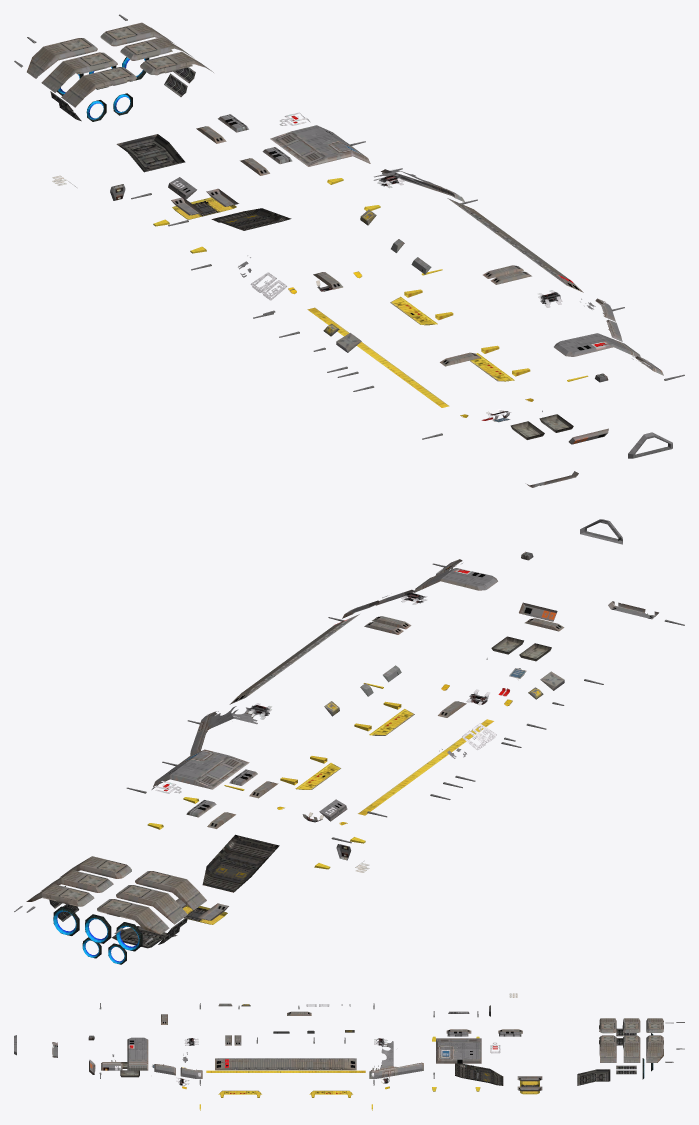
File: Goblins.obj
3 views of the same model, one above another, from view 1: azimuth 30°, elevation 25°; view 2: azimuth 150°, elevation 25°; view 3: azimuth 270°, elevation 25° (orthographic). The views are drawn at different scales.
Parts seen in each view (by area): view 1: Hgn_Carrier_Main_TEX, Hgn_Carrier_Engine_TEX; view 2: Hgn_Carrier_Main_TEX, Hgn_Carrier_Engine_TEX; view 3: Hgn_Carrier_Main_TEX.
Boxes of the visible parts, x1,y1,x2,y2 form: Hgn_Carrier_Main_TEX: (14, 14, 684, 487); Hgn_Carrier_Engine_TEX: (52, 57, 149, 200); Hgn_Carrier_Main_TEX: (14, 519, 684, 948); Hgn_Carrier_Engine_TEX: (53, 844, 369, 964); Hgn_Carrier_Main_TEX: (14, 1003, 684, 1110).
Bounding box in the file's own units: 222 × 76.34 × 708.
